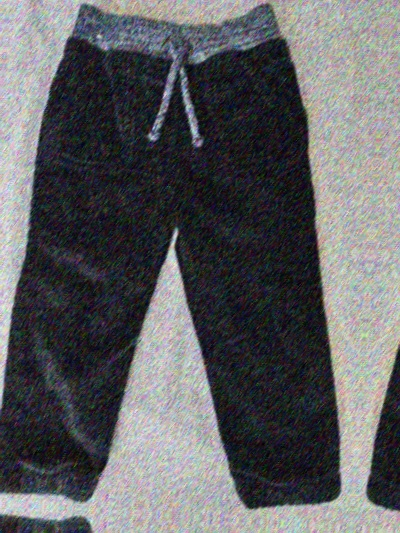Pants: (0, 0, 374, 515), (367, 1, 400, 533), (0, 516, 335, 533), (0, 0, 4, 489)
